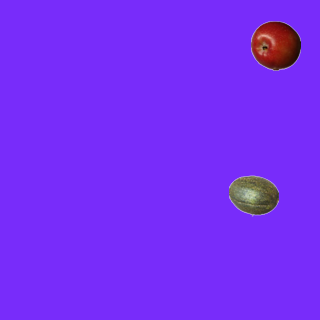Apple Braeburn: (250, 20, 300, 70)
Melon Piel de Sapo: (228, 170, 278, 220)
